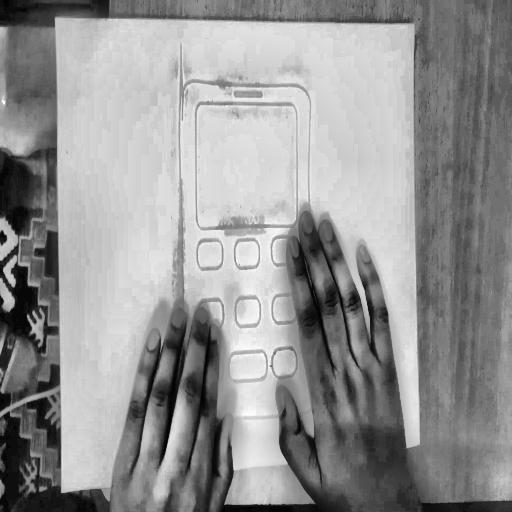bottom_left: (58, 487, 65, 498)
bottom_right: (417, 438, 423, 447)
mobile: (174, 34, 324, 435)
top_left: (53, 14, 58, 24)
top_right: (411, 19, 418, 31)
